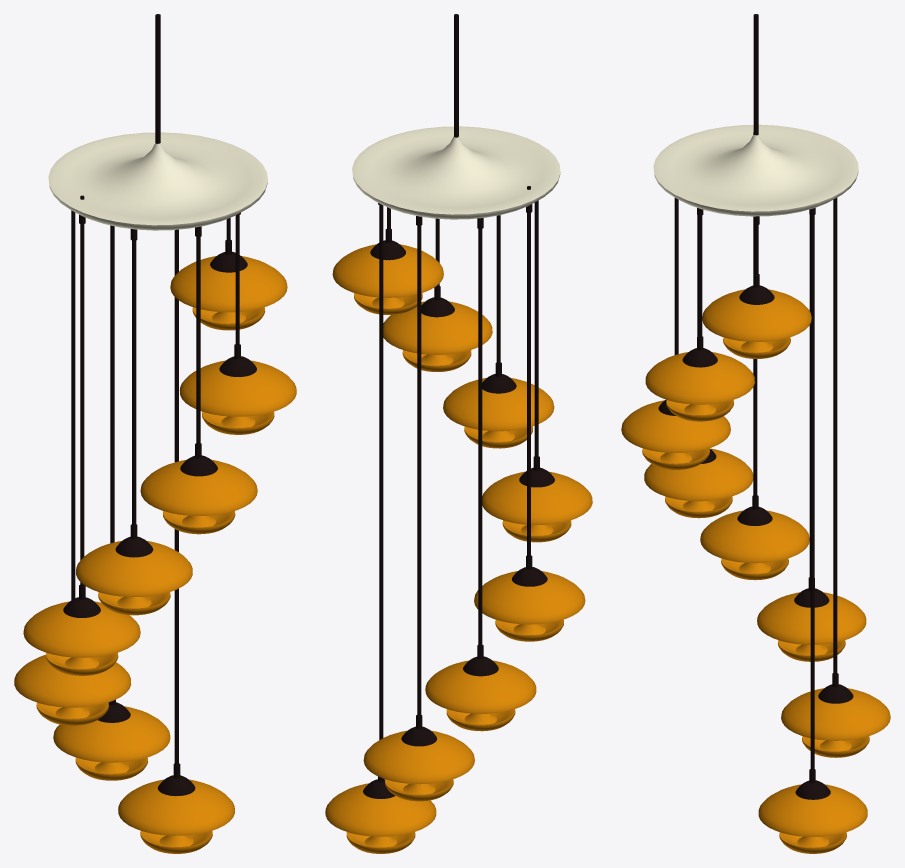
The model's file is BigLamp.fbx.
3 renders of one model, left to right at view 1: azimuth 30°, elevation 25°; view 2: azimuth 150°, elevation 25°; view 3: azimuth 270°, elevation 25°, orthographic. The views are drawn at different scales.
Visible parts, largest first — view 1: Lamp (×7), Top, Wire (×7), Lamp8, Wire3; view 2: Lamp (×7), Top, Wire (×7), Lamp8, Wire3; view 3: Lamp (×7), Top, Wire (×6), Lamp8, Wire3.
Boxes of the visible parts, box(x1,y1,x2,y2) form: Lamp (×7): box(23, 256, 296, 853); Top: box(48, 14, 267, 230); Wire (×7): box(71, 210, 256, 796); Lamp8: box(14, 654, 131, 725); Wire3: box(63, 195, 100, 617); Lamp (×7): box(325, 244, 592, 853); Top: box(352, 14, 560, 219); Wire (×7): box(363, 200, 554, 798); Lamp8: box(425, 660, 536, 731); Wire3: box(512, 186, 547, 586); Lamp (×7): box(621, 289, 890, 853); Top: box(653, 14, 858, 216); Wire (×6): box(658, 198, 853, 799); Lamp8: box(757, 592, 866, 661); Wire3: box(737, 132, 772, 525).
Size of the model in its own units: 3.08 by 10.25 by 3.08.
